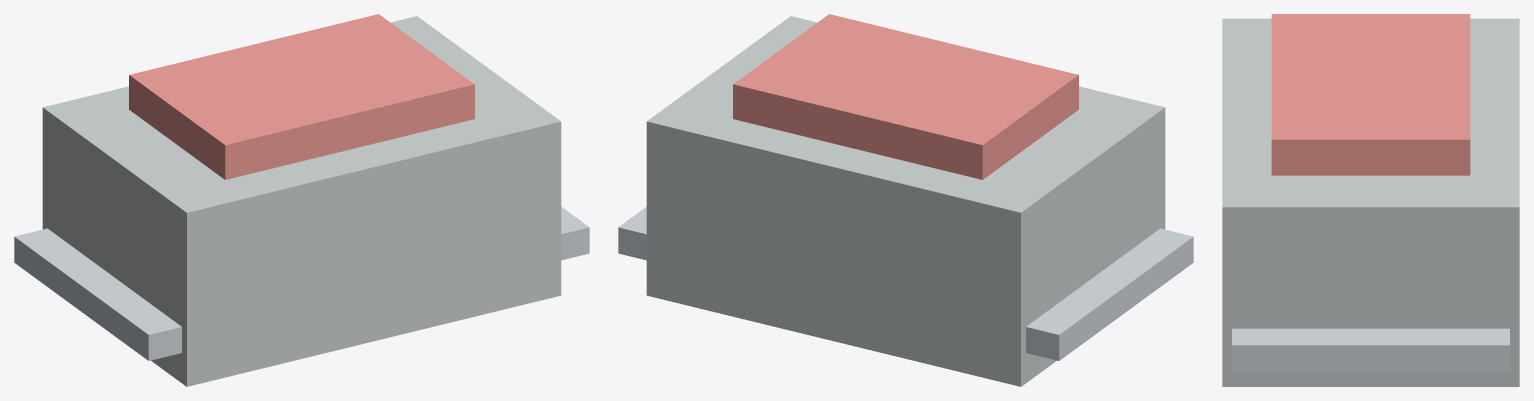
File: 273_L121_LED3.glb
The picture shows the model from 3 angles, left to right: view 1: azimuth 30°, elevation 25°; view 2: azimuth 150°, elevation 25°; view 3: azimuth 270°, elevation 25°; orthographic projection. The views are drawn at different scales.
Visible parts, largest first — view 1: connector_white__PSMAT__connector_white, led_red__PSMAT__led_red, tin__PSMAT__tin; view 2: connector_white__PSMAT__connector_white, led_red__PSMAT__led_red, tin__PSMAT__tin; view 3: connector_white__PSMAT__connector_white, led_red__PSMAT__led_red, tin__PSMAT__tin.
Part boxes in pixels (x1,y1,x2,y2): connector_white__PSMAT__connector_white: [42, 16, 561, 386]; led_red__PSMAT__led_red: [129, 14, 474, 179]; tin__PSMAT__tin: [14, 207, 589, 360]; connector_white__PSMAT__connector_white: [646, 16, 1165, 386]; led_red__PSMAT__led_red: [733, 14, 1078, 179]; tin__PSMAT__tin: [618, 207, 1193, 360]; connector_white__PSMAT__connector_white: [1222, 18, 1519, 386]; led_red__PSMAT__led_red: [1271, 14, 1470, 175]; tin__PSMAT__tin: [1232, 328, 1509, 372].
Size of the model in its own units: 0.0053 by 0.0024 by 0.003.
